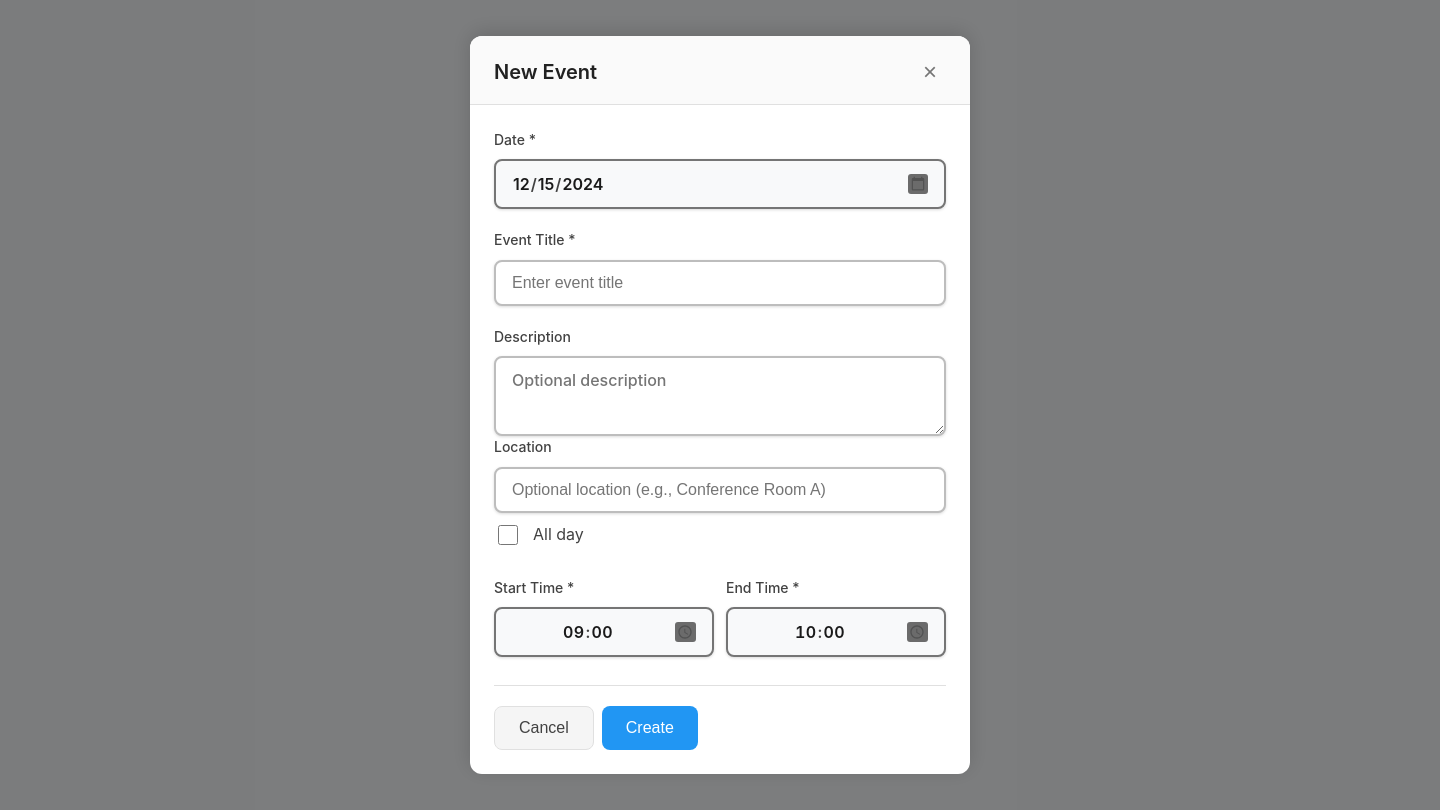
Test: EventModal › Form Fields › hides time fields when all day is checked
Click the checkbox. click: [508, 535]
box: [498,525,518,545]
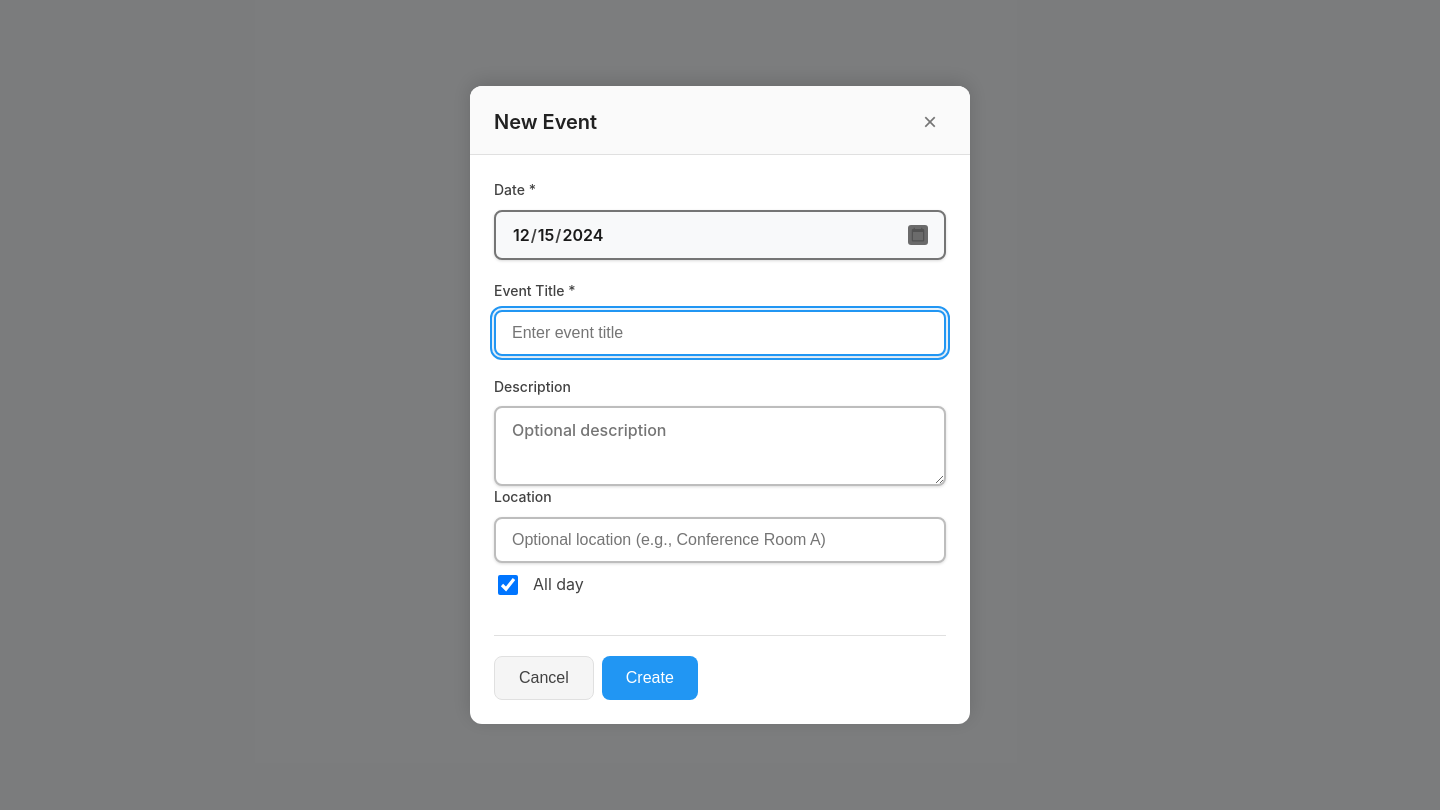
Now the label labelled "Start Time" is gone
Now the label labelled "End Time" is gone
